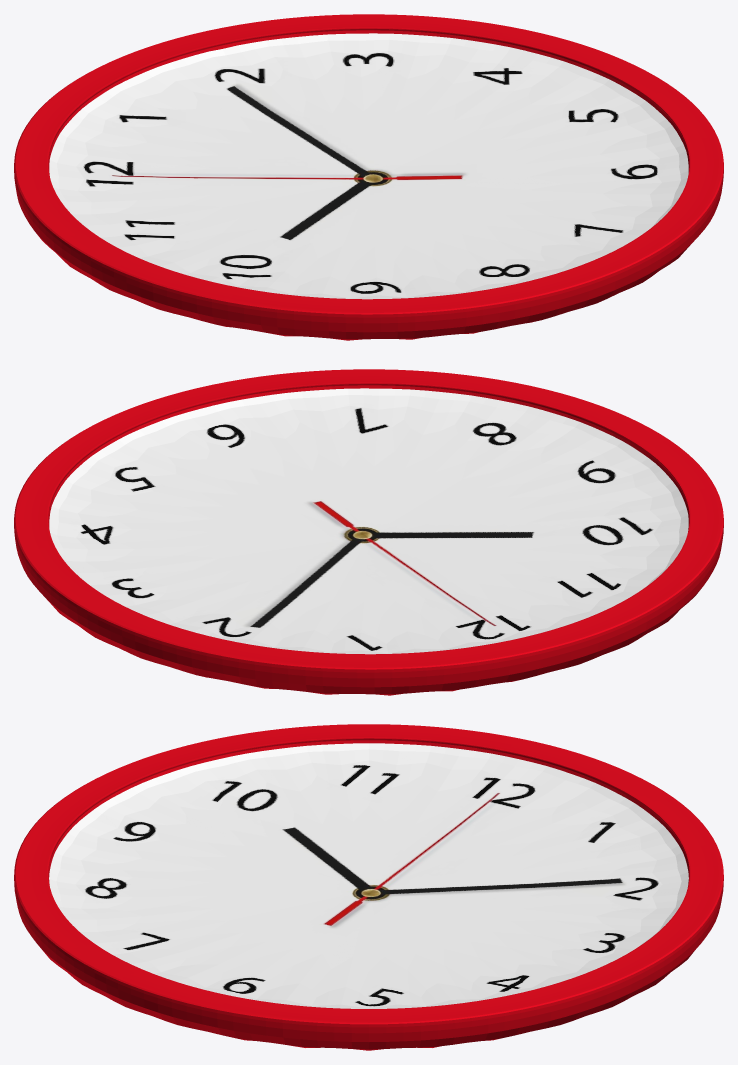
The model's file is clock.fbx.
3 renders of one model, top to bottom at view 1: azimuth 30°, elevation 25°; view 2: azimuth 150°, elevation 25°; view 3: azimuth 270°, elevation 25°, orthographic.
Parts seen in each view (by area): view 1: Cylinder; view 2: Cylinder; view 3: Cylinder.
Part boxes in pixels (box(x1,y1,x2,y2)): Cylinder: box(14, 14, 723, 340); Cylinder: box(14, 369, 723, 695); Cylinder: box(14, 724, 723, 1050).
Bounding box in the file's own units: 88.74 × 8.53 × 88.74.
